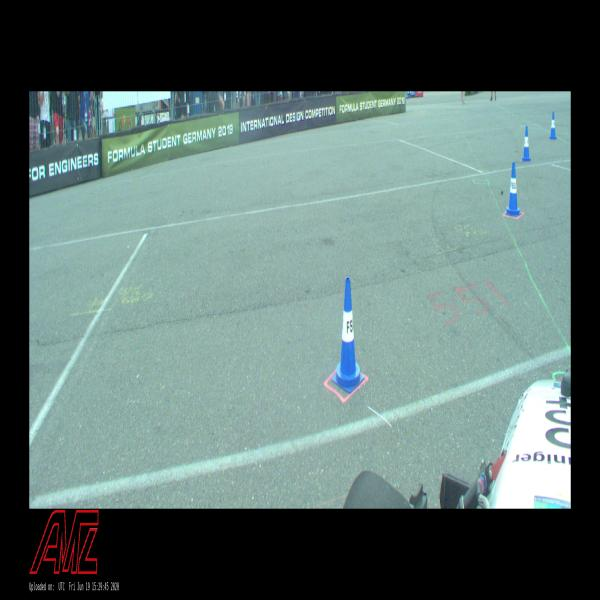blue_cone: (332, 278, 364, 393), (505, 163, 521, 216), (522, 126, 531, 160), (549, 111, 557, 139)
